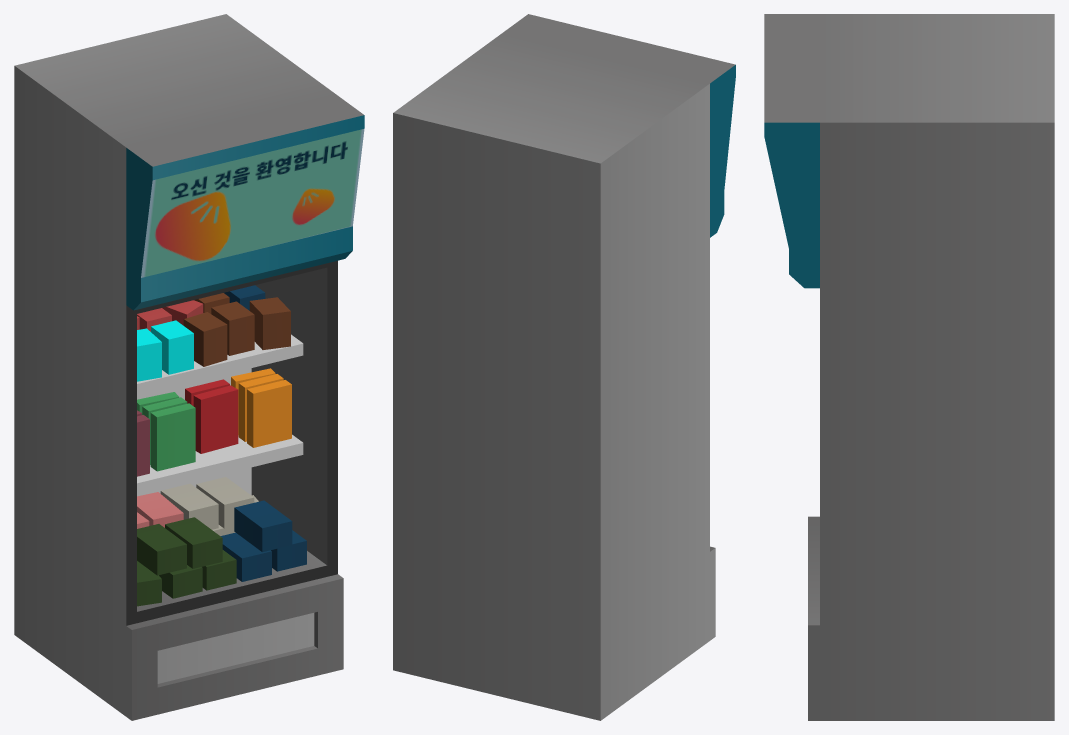
Rendered from B03_Frigo.fbx.
3 renders of one model, left to right at view 1: azimuth 30°, elevation 25°; view 2: azimuth 150°, elevation 25°; view 3: azimuth 270°, elevation 25°, orthographic. The views are drawn at different scales.
Parts seen in each view (by area): view 1: B03_Frigo; view 2: B03_Frigo; view 3: B03_Frigo.
Part boxes in pixels (box(x1,y1,x2,y2)): B03_Frigo: box(14, 14, 364, 720); B03_Frigo: box(393, 14, 735, 720); B03_Frigo: box(764, 14, 1054, 720).
Bounding box in the file's own units: 161 × 413 × 181.
